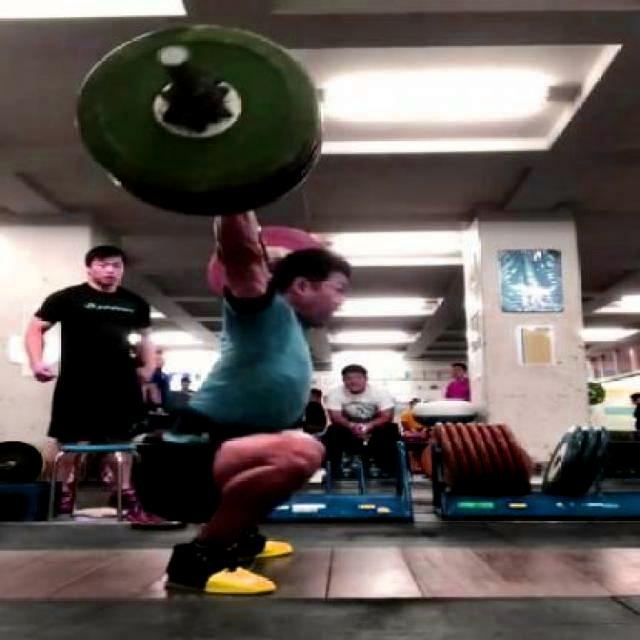barbell: (70, 13, 322, 203)
